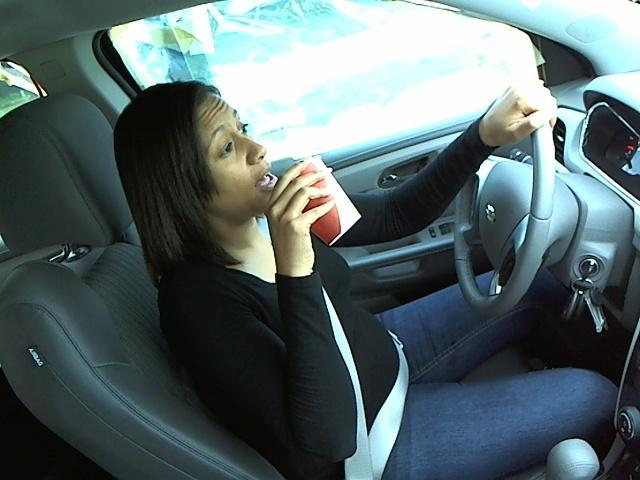Drinking: (172, 89, 361, 261)
